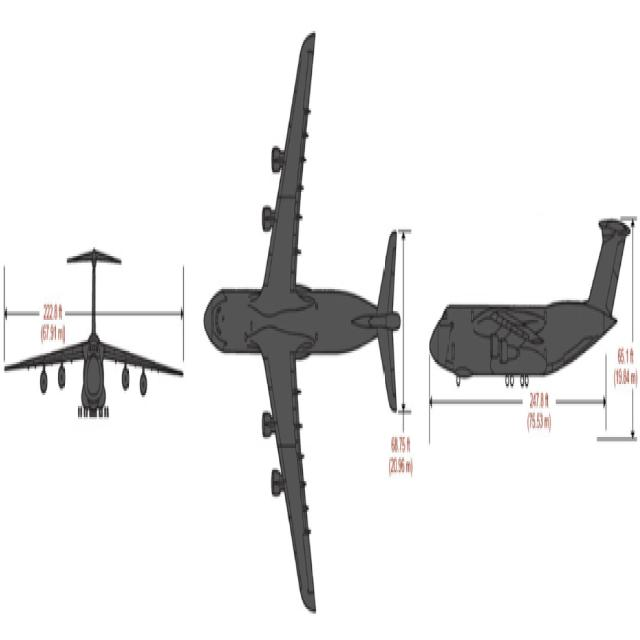C5: (202, 47, 415, 640), (430, 121, 640, 506), (2, 126, 193, 453)
